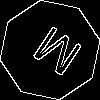M: (25, 25, 85, 86)
